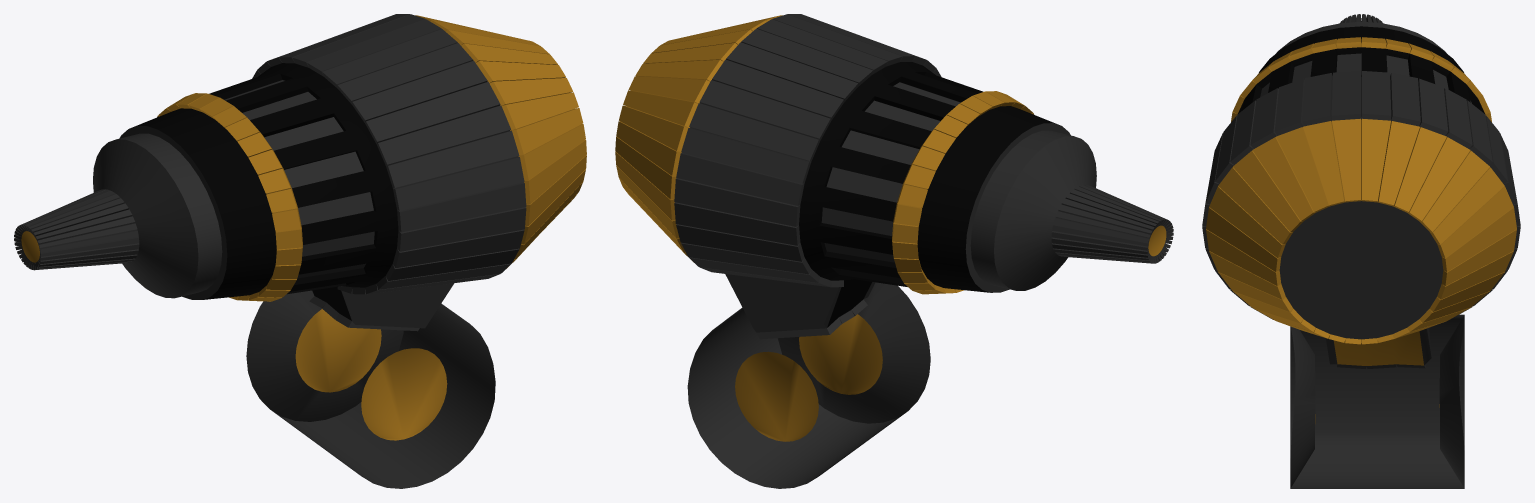
The model's file is battery acid gun.fbx.
The picture shows the model from 3 angles, left to right: view 1: azimuth 30°, elevation 25°; view 2: azimuth 150°, elevation 25°; view 3: azimuth 270°, elevation 25°; orthographic projection. The views are drawn at different scales.
Visible parts, largest first — view 1: Cylinder.006; view 2: Cylinder.006; view 3: Cylinder.006.
Part boxes in pixels (x1,y1,x2,y2): Cylinder.006: [14, 14, 586, 488]; Cylinder.006: [615, 14, 1173, 488]; Cylinder.006: [1202, 14, 1520, 488].
Bounding box in the file's own units: 36.59 × 28.24 × 20.59.
